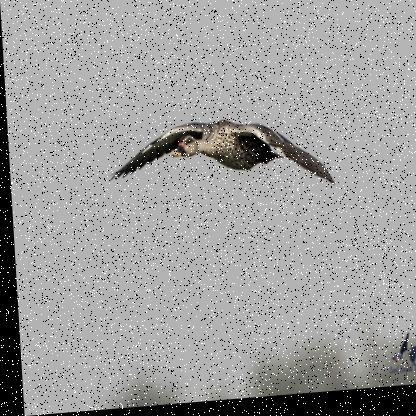Burung: (105, 116, 331, 204)
